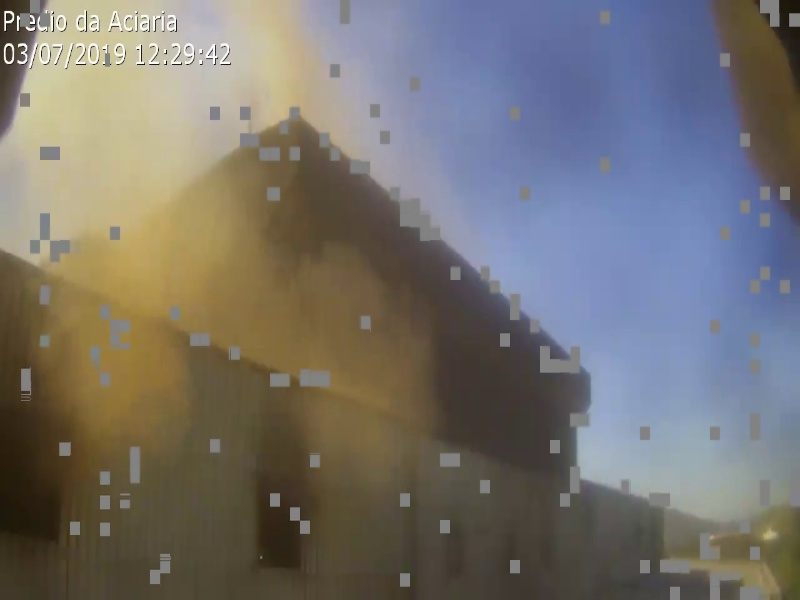Pessimo: (37, 5, 495, 556)
